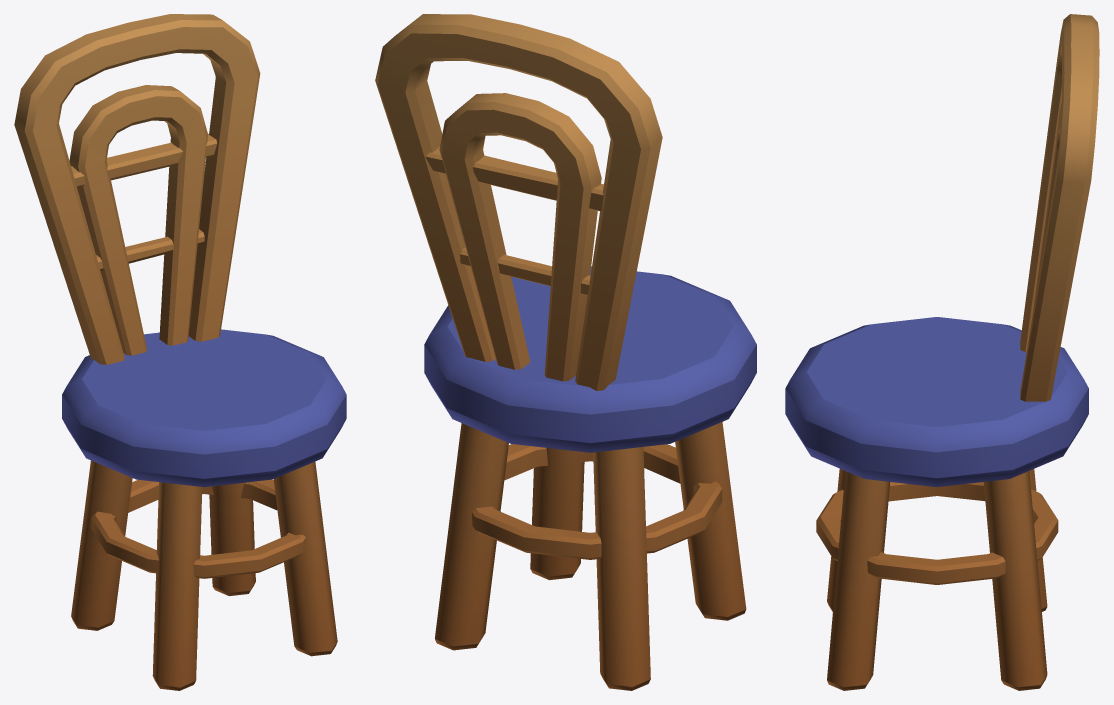
Rendered from Chair_3_I.glb.
The picture shows the model from 3 angles, left to right: view 1: azimuth 30°, elevation 25°; view 2: azimuth 150°, elevation 25°; view 3: azimuth 270°, elevation 25°; orthographic projection. The views are drawn at different scales.
Parts seen in each view (by area): view 1: Chair_3_I; view 2: Chair_3_I; view 3: Chair_3_I.
Boxes of the visible parts, box(x1,y1,x2,y2) form: Chair_3_I: box(14, 14, 346, 690); Chair_3_I: box(375, 14, 756, 690); Chair_3_I: box(785, 14, 1099, 690).
Bounding box in the file's own units: 0.5328 × 1.16 × 0.5514.
Materials: 1 (1 with a texture image).
